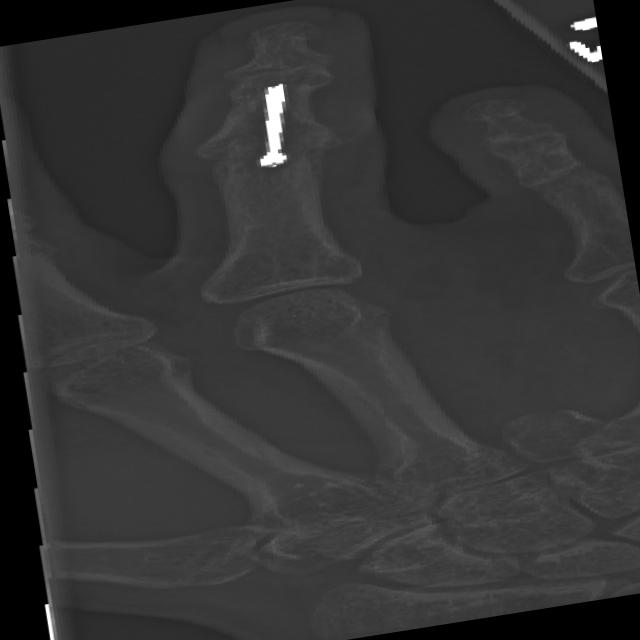fingers positive: (207, 77, 332, 136)
